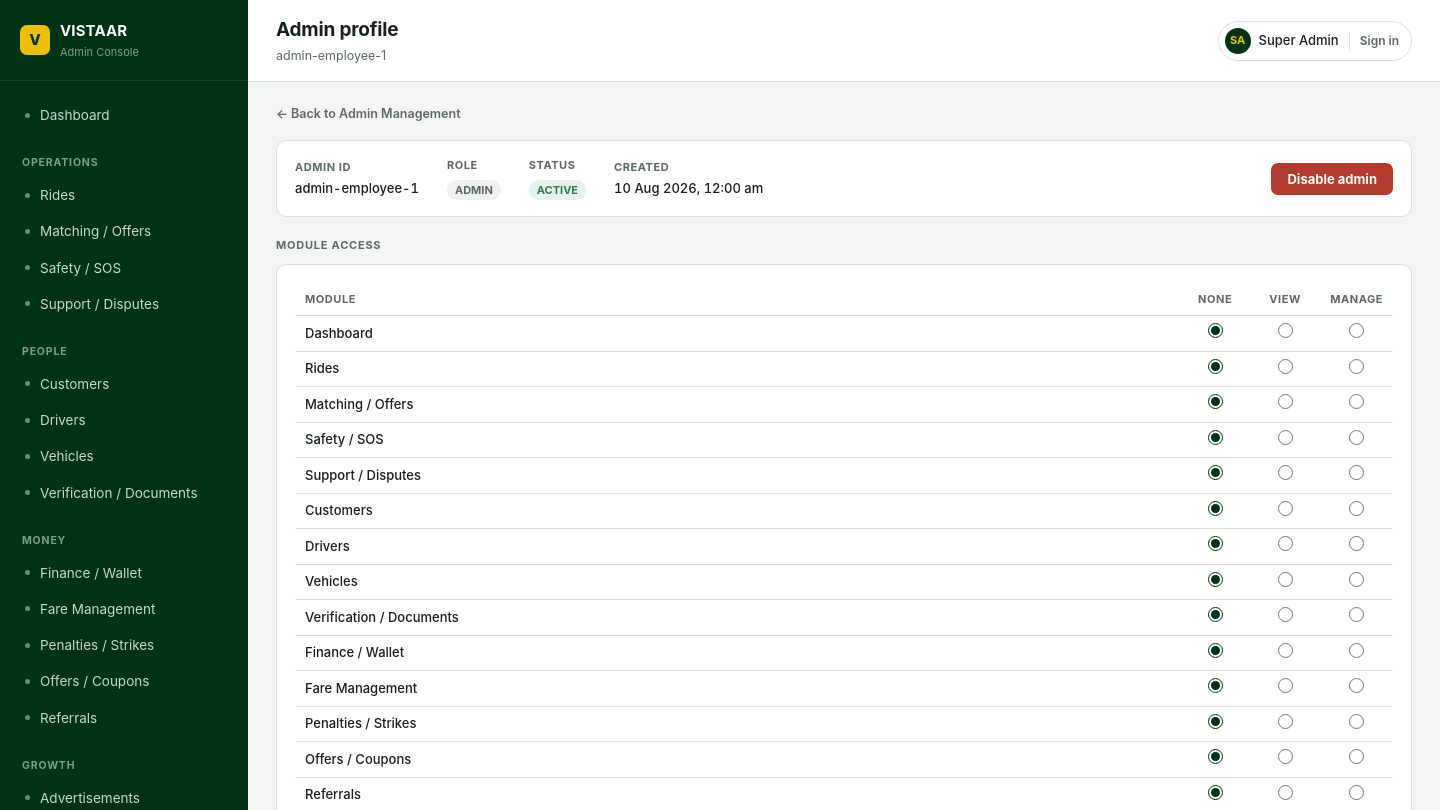
Test case: AdminDetailPage › disables an active admin and flips the action to Enable
Click the button "Disable admin": {"x": 1332, "y": 178} left=1272, top=162, right=1393, bottom=194
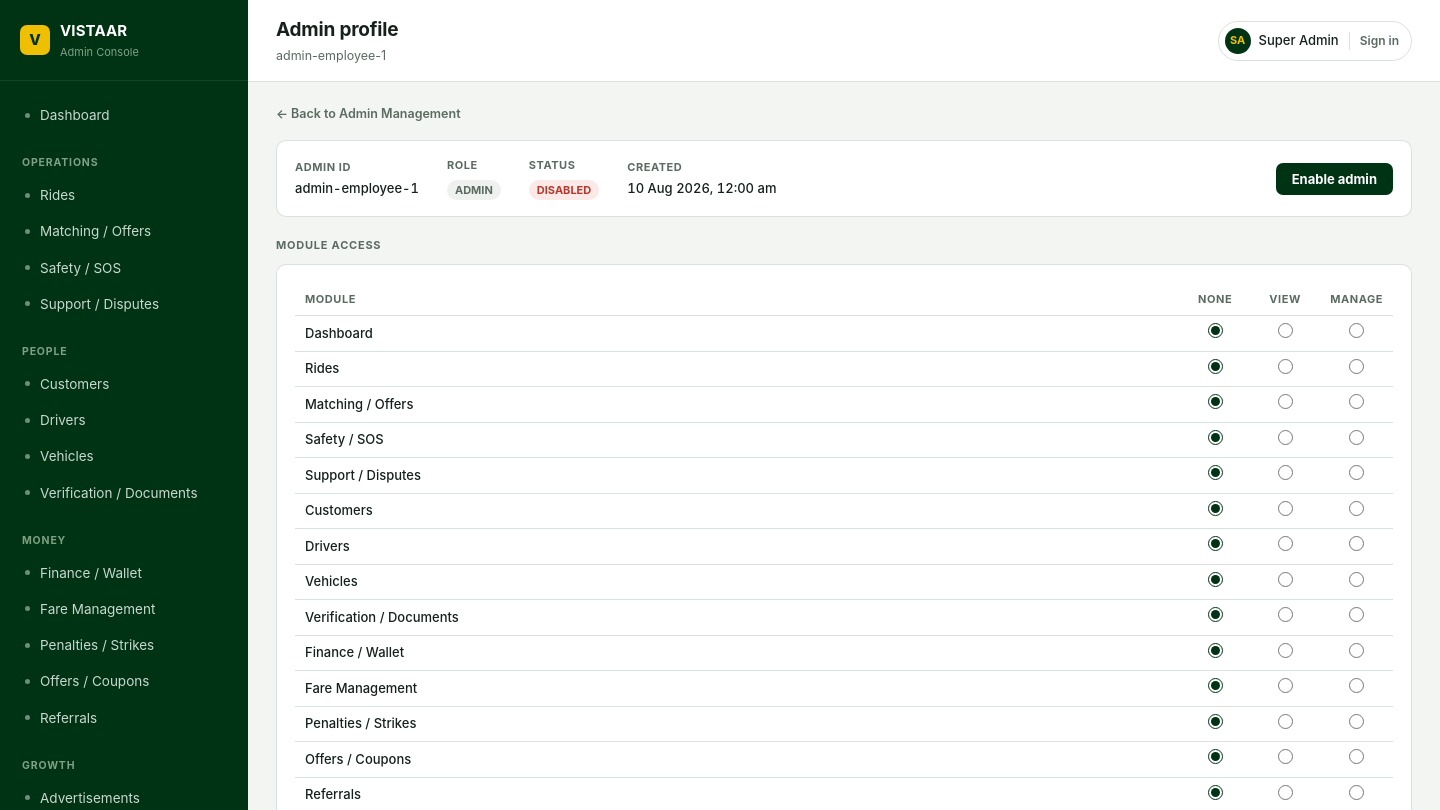
Check: the text "DISABLED" is shown, box left=529, top=180, right=599, bottom=200
Check: the button "Enable admin" is shown, box left=1276, top=162, right=1393, bottom=194
